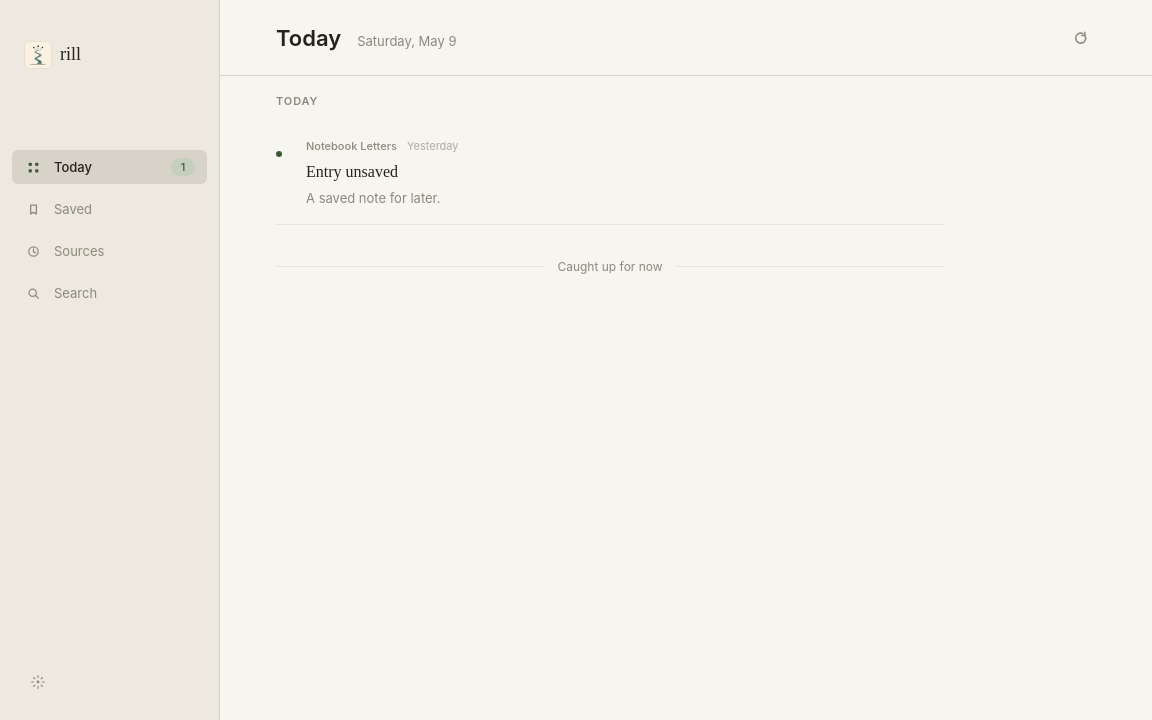
it: SavedView › renders a quiet empty state when nothing is saved
Click the button with aria-label "Saved". click: x=110, y=209
box: 12,192 -> 207,226
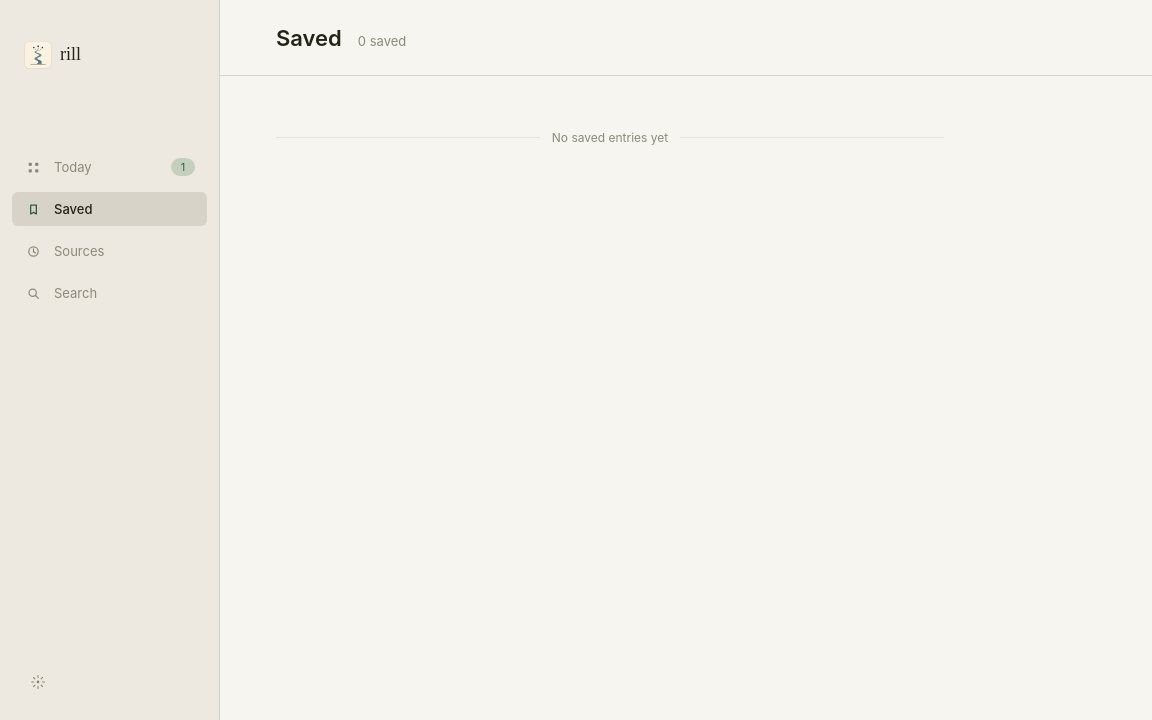
expect the text "No saved entries yet" is shown: met, box 552,130 -> 668,145
expect no elements with class "entry-row" are shown: met
